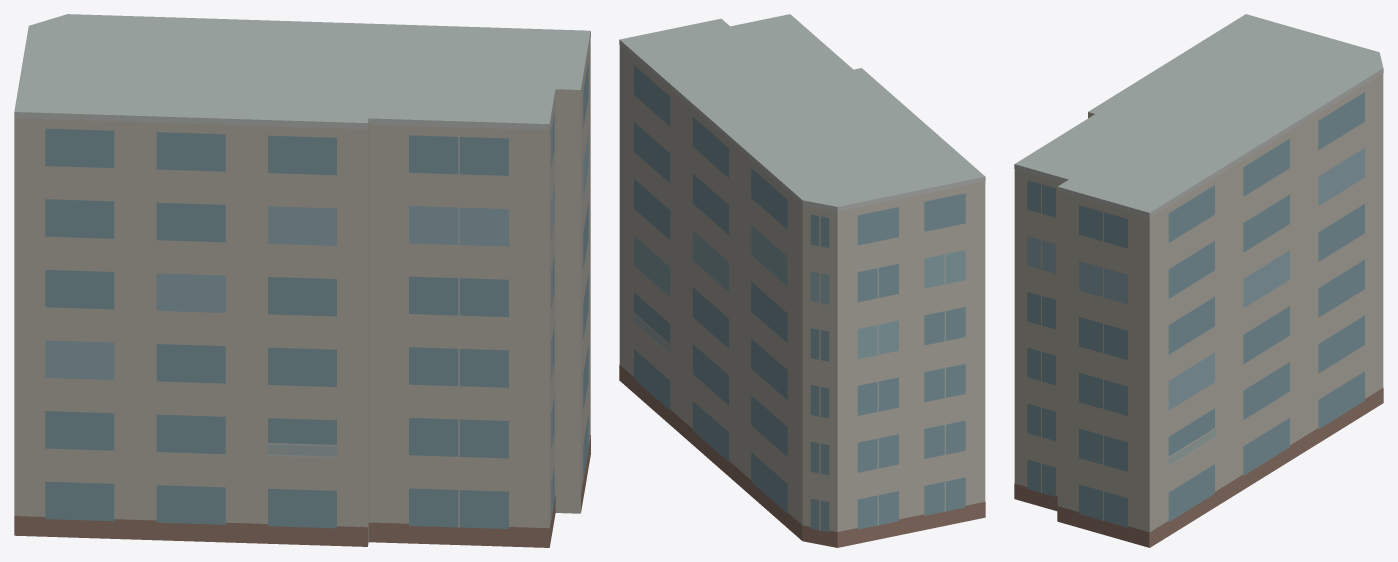
Rendered from survey-upis-32877079.glb.
3 views of the same model, side by side, from view 1: azimuth 30°, elevation 25°; view 2: azimuth 150°, elevation 25°; view 3: azimuth 270°, elevation 25° (orthographic). The views are drawn at different scales.
Parts seen in each view (by area): view 1: survey-upis-32877079.tmp; view 2: survey-upis-32877079.tmp; view 3: survey-upis-32877079.tmp.
Boxes of the visible parts, x1,y1,x2,y2 form: survey-upis-32877079.tmp: (14,14,590,547); survey-upis-32877079.tmp: (619,14,985,547); survey-upis-32877079.tmp: (1014,14,1383,547).
Size of the model in its own units: 21.15 by 16.6 by 16.58.
